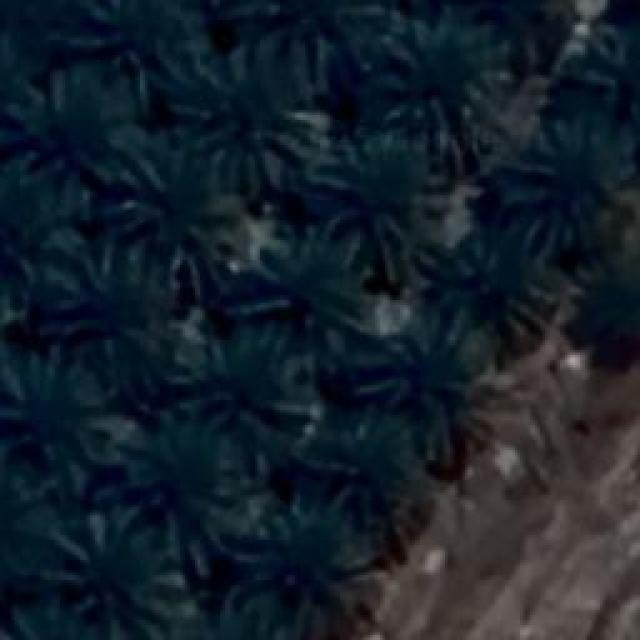PalmTree: (61, 532, 159, 640), (336, 422, 426, 530), (371, 336, 469, 432), (392, 50, 496, 140), (271, 0, 374, 90), (271, 530, 354, 640), (158, 432, 248, 532), (525, 120, 610, 222), (334, 162, 418, 260), (148, 165, 232, 258), (104, 2, 198, 80), (68, 271, 154, 354), (470, 234, 545, 328), (218, 344, 296, 434), (40, 79, 125, 159), (268, 261, 352, 341), (210, 86, 282, 172), (580, 254, 640, 336), (18, 362, 88, 430), (5, 175, 55, 260), (592, 21, 640, 99), (0, 475, 34, 583), (185, 609, 302, 640), (1, 608, 101, 640)
